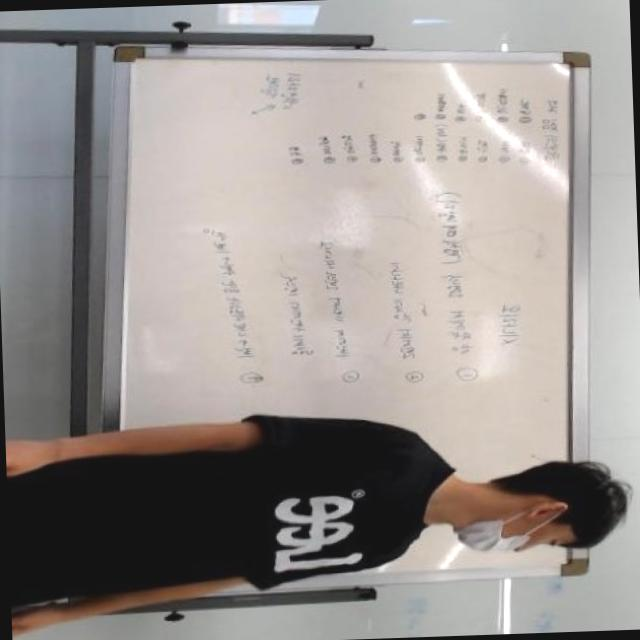Instructor: (77, 394, 635, 606)
White-board: (97, 50, 585, 575)
